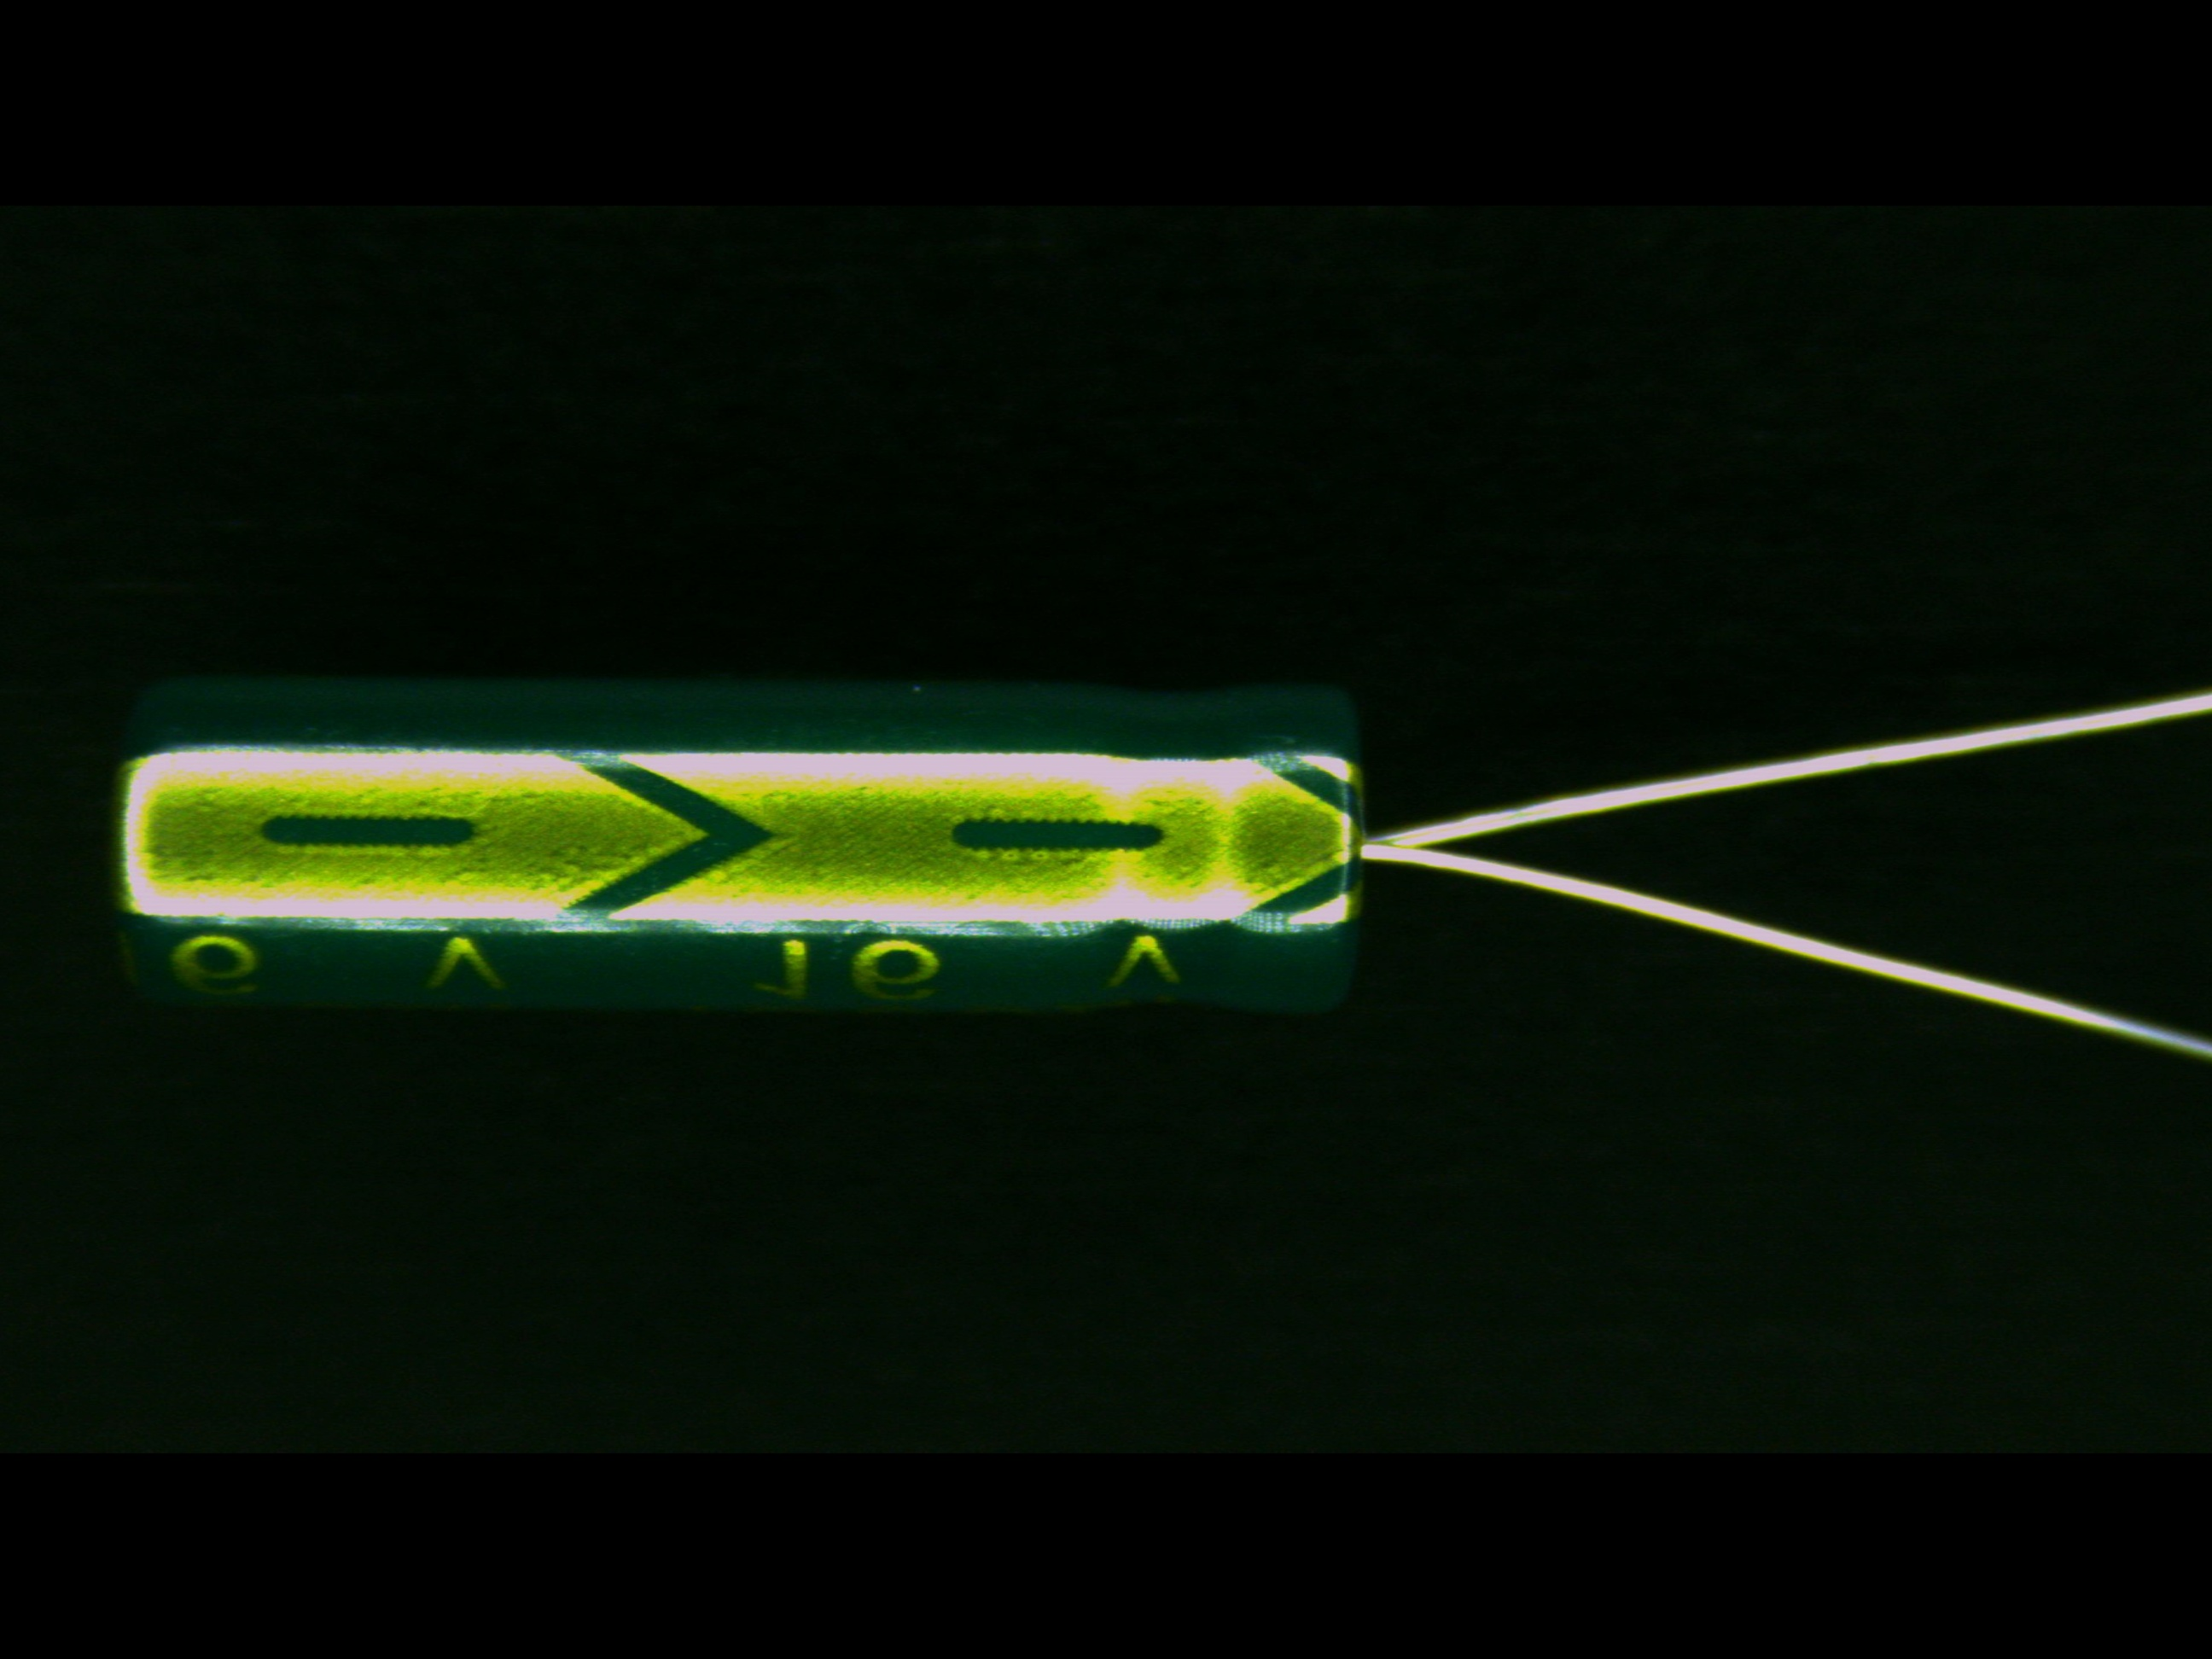c1: (113, 671, 1700, 1019)
